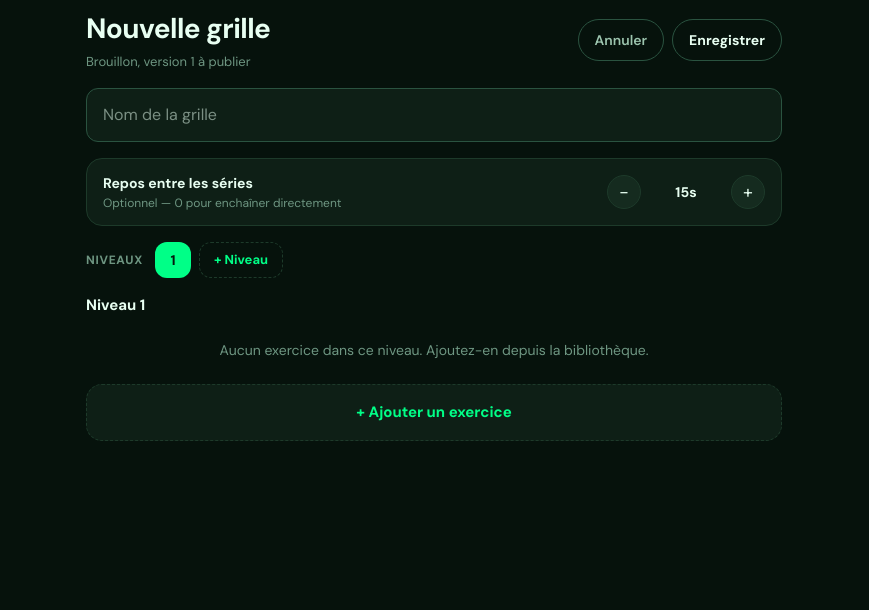
Test: niveaux › empile un niveau et bascule dessus
The image size is (869, 610).
Click the button "+ Ajouter un exercice" at (434, 412), box [86,384,782,440]
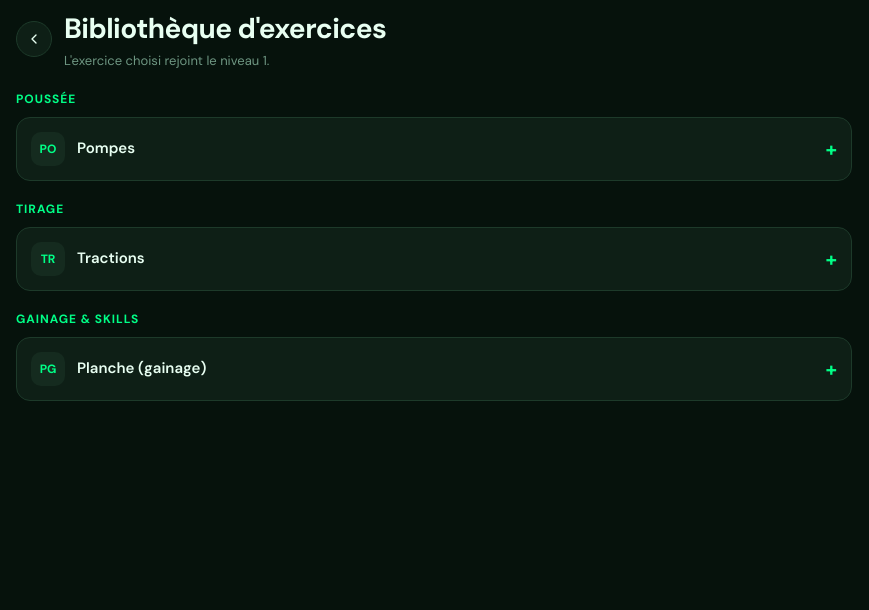
Click the button "PO Pompes +" at (48, 148), box [16,116,852,180]
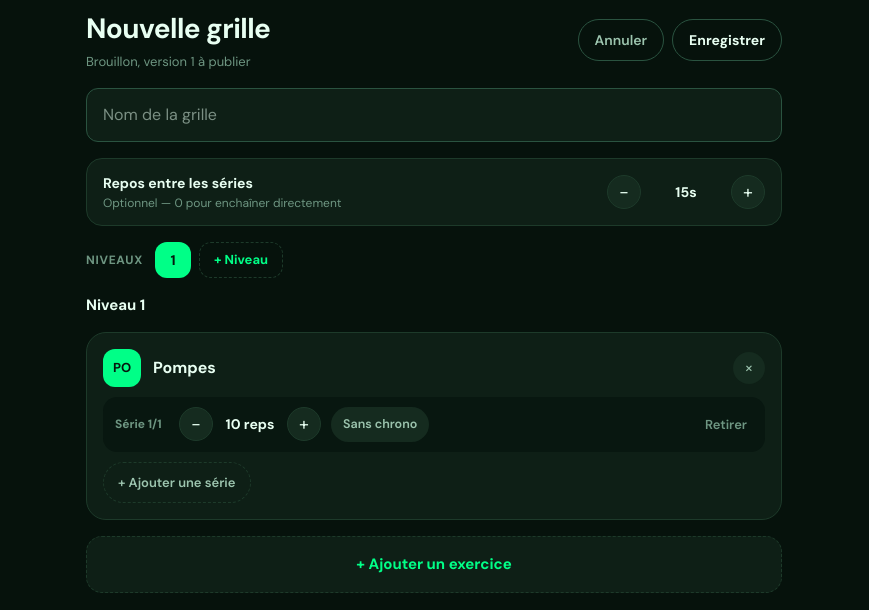
Click the button "+ Niveau" at (241, 260), box [199,242,283,278]
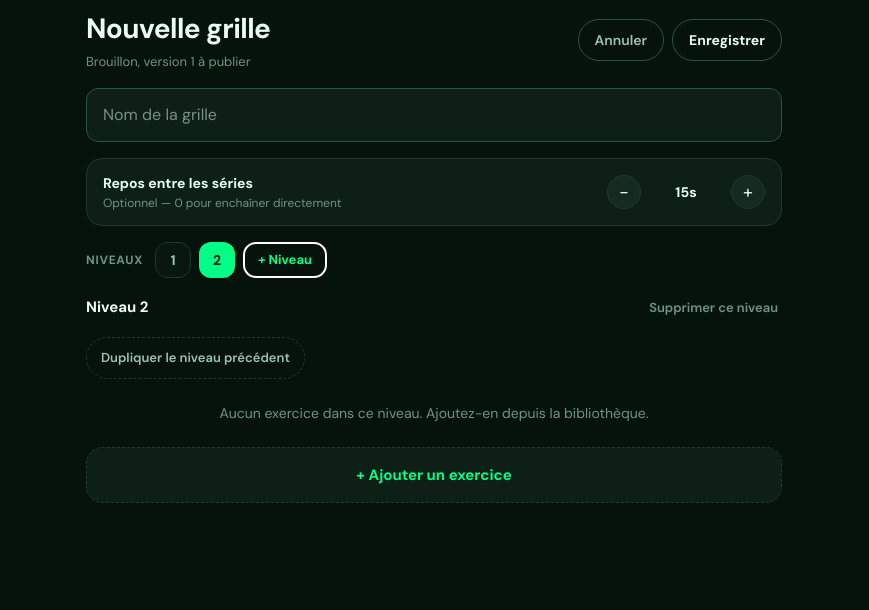
Result: the text "Niveau 2" is shown at [86,296,148,318]
Result: the text "Aucun exercice dans ce niveau. Ajoutez-en depuis la bibliothèque." is shown at [220,404,648,422]
